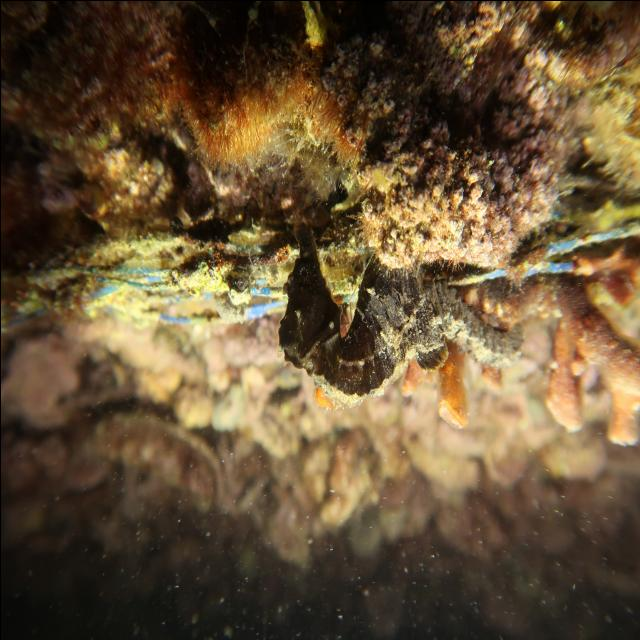Hippo: (274, 215, 345, 376)
